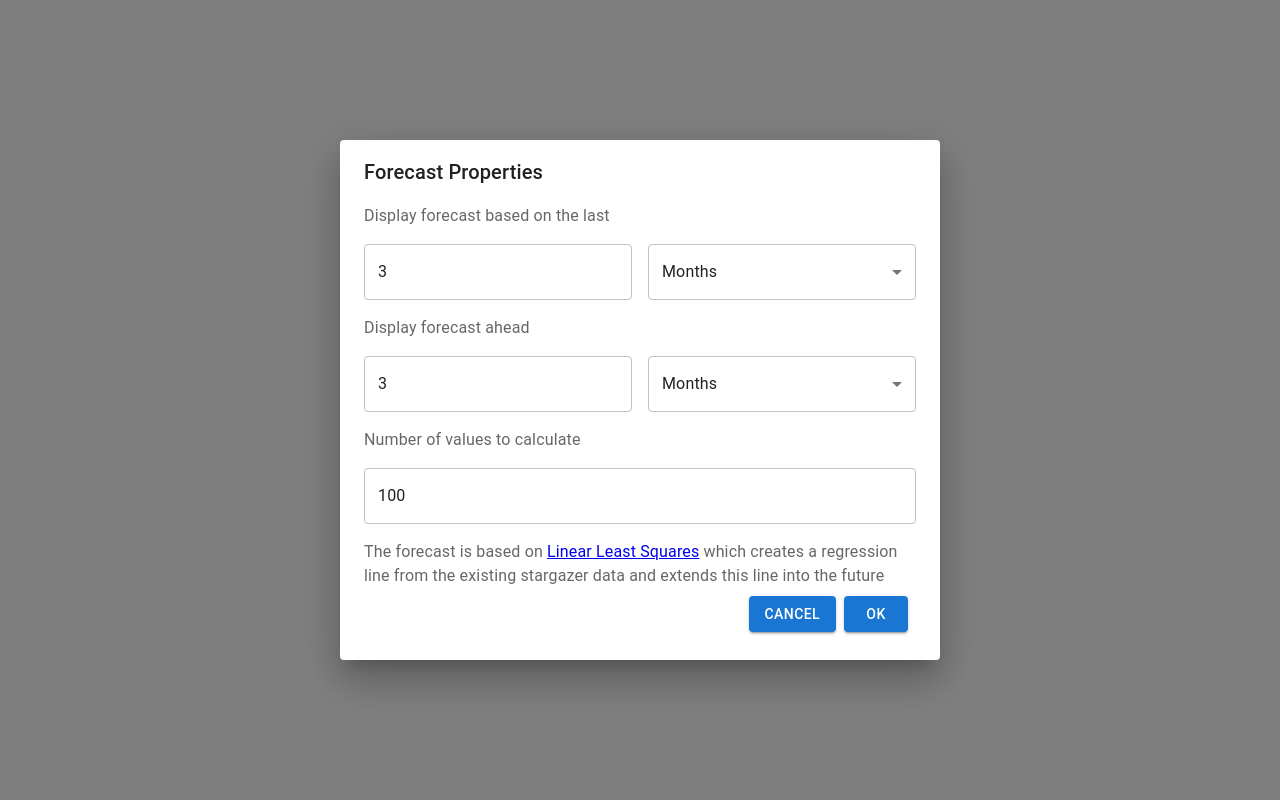
Test case: ForecastForm › checks backward count text box validations
Replace the text in the number field with test id "backwardCount" with "0" at (498, 272), box top-left (364, 244), bottom-right (632, 300)
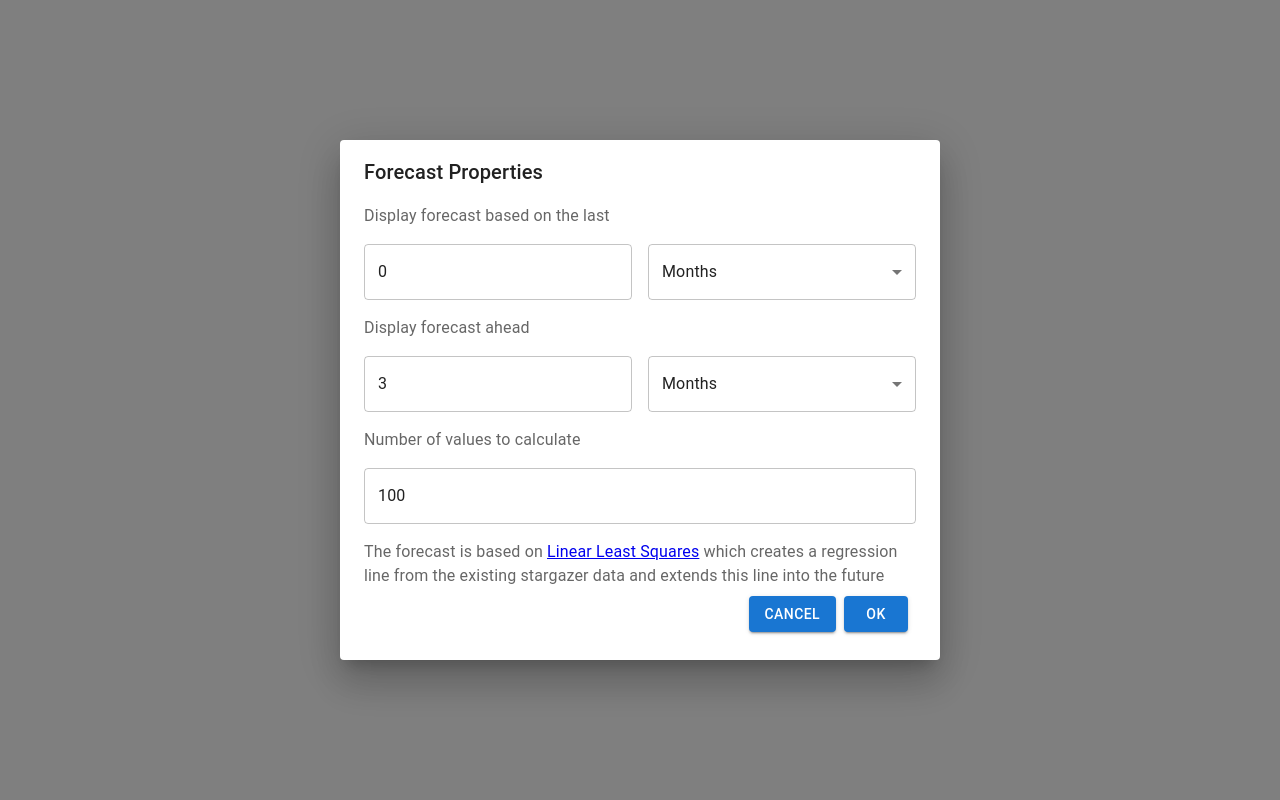
Click the button "Ok".
click(876, 614)  # box top-left (844, 596), bottom-right (908, 632)
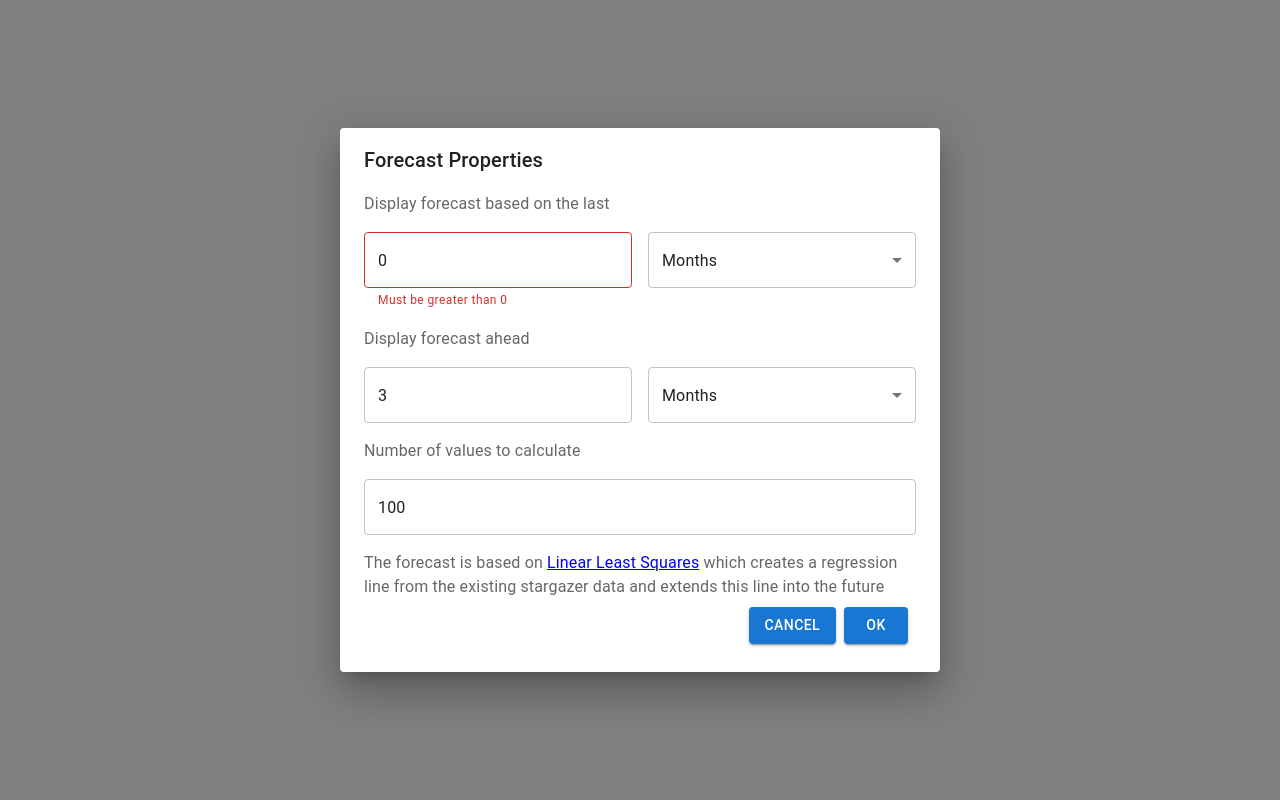
expect the text "Must be greater than 0" is shown: met, box top-left (378, 293), bottom-right (507, 307)
Replace the text in the number field with test id "backwardCount" with "101" at (498, 260), box top-left (364, 232), bottom-right (632, 288)
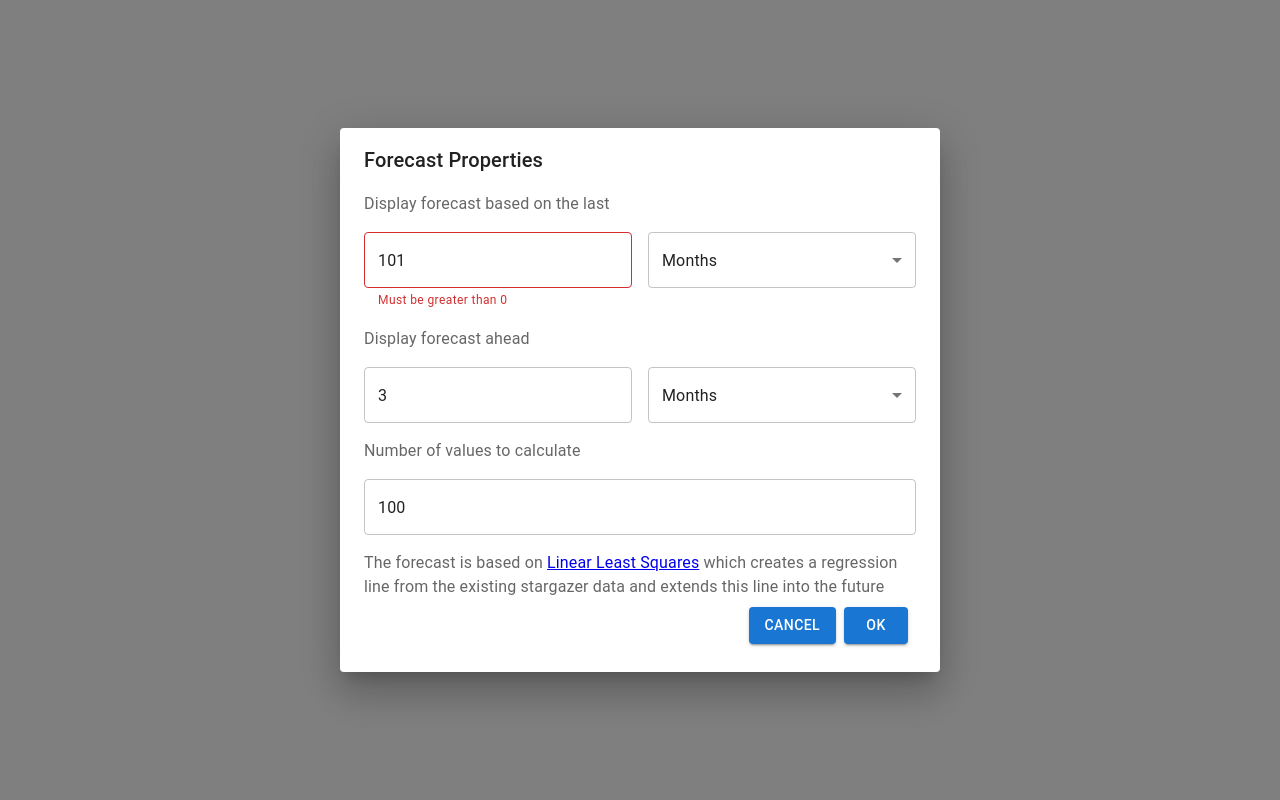
Click the button "Ok".
click(876, 625)  # box top-left (844, 607), bottom-right (908, 644)
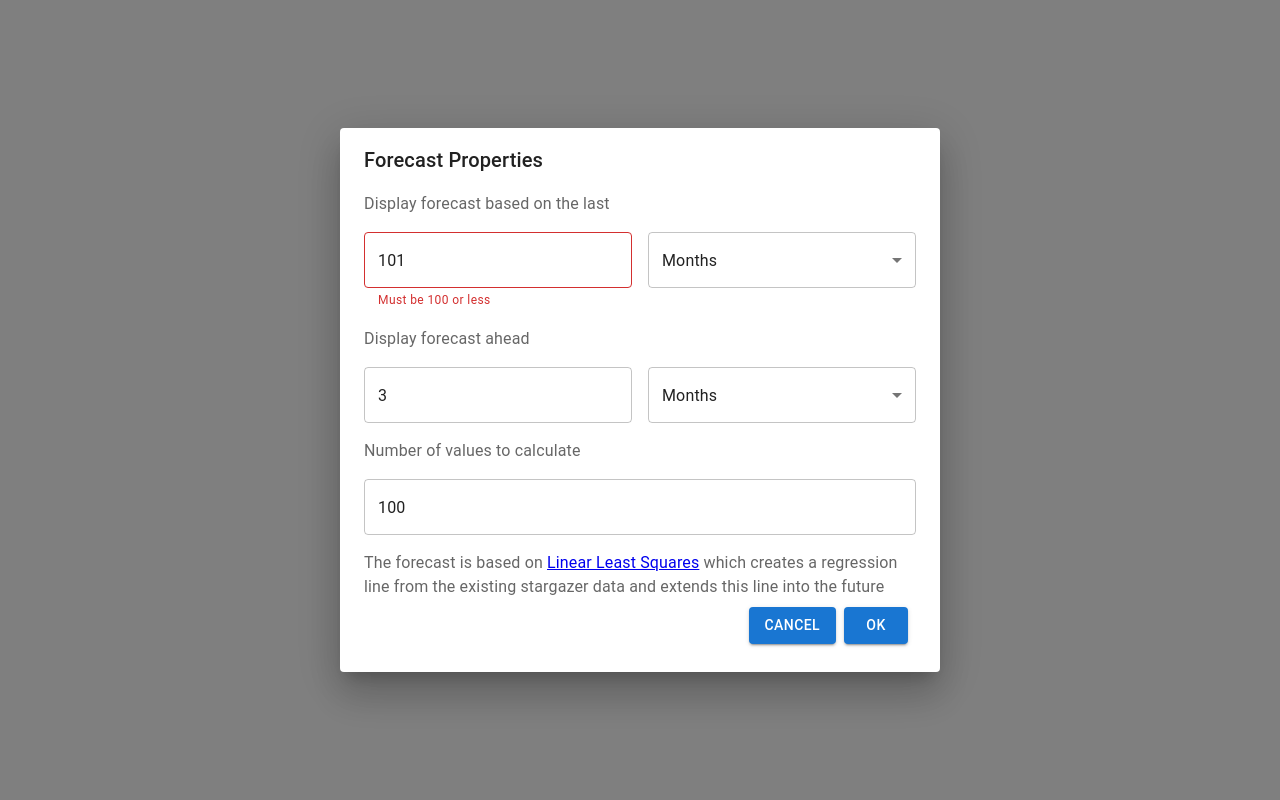
expect the text "Must be 100 or less" is shown: met, box top-left (378, 293), bottom-right (491, 307)
Clear the number field with test id "backwardCount" at (498, 260), box top-left (364, 232), bottom-right (632, 288)
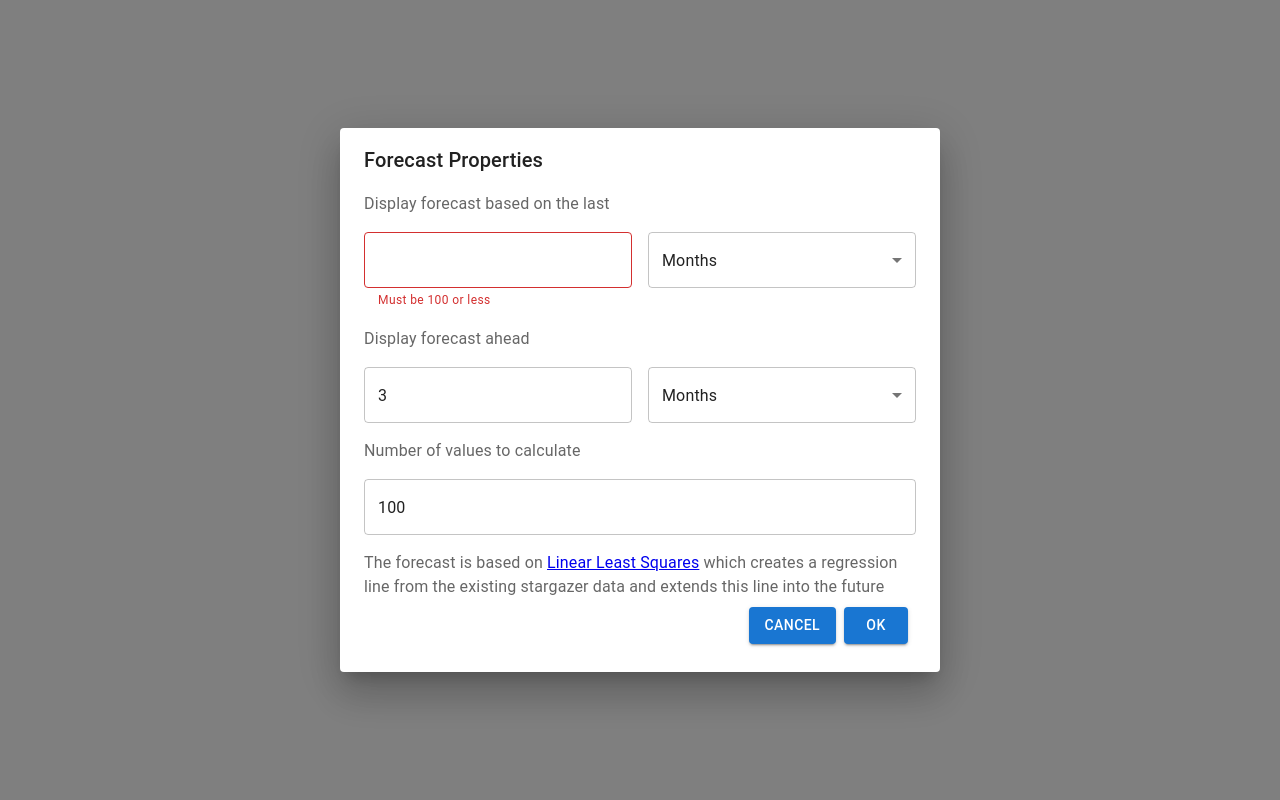
Click the button "Ok".
click(876, 625)  # box top-left (844, 607), bottom-right (908, 644)
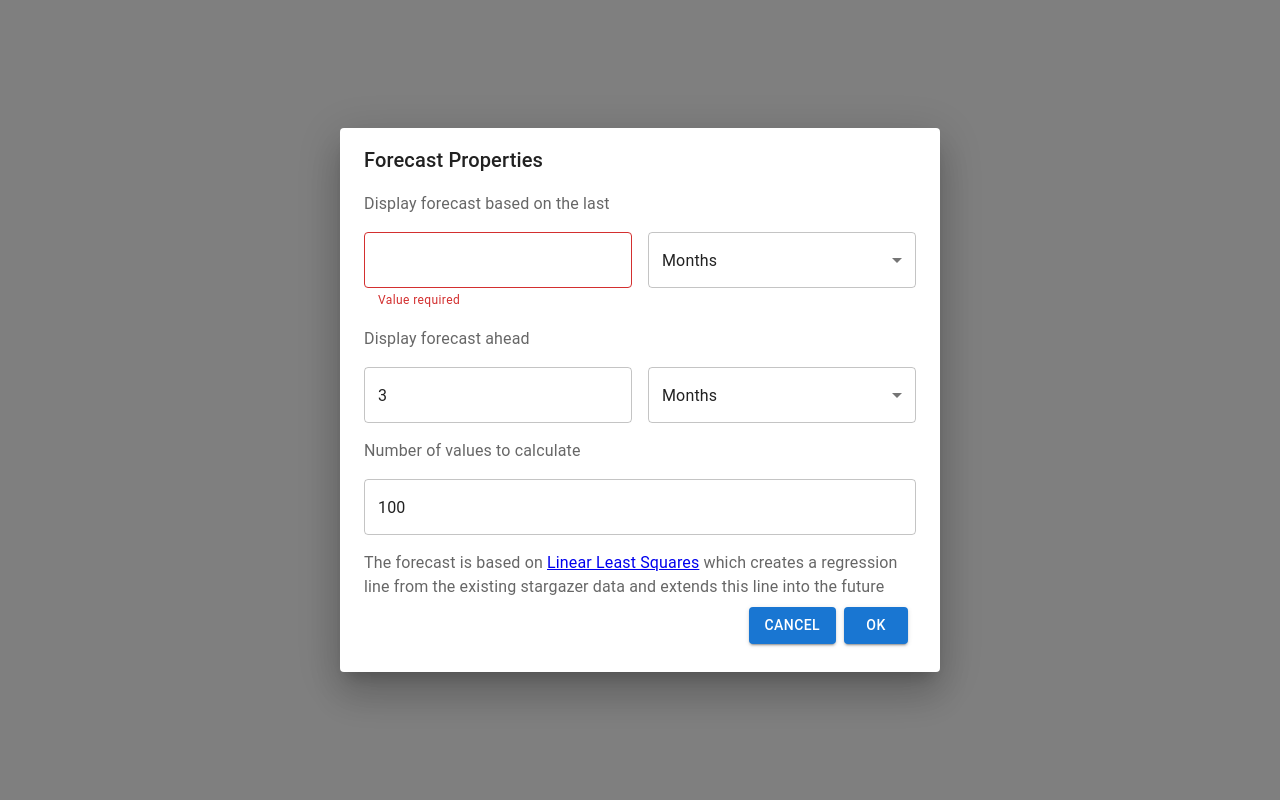
expect the text "Value required" is shown: met, box top-left (378, 293), bottom-right (460, 307)
